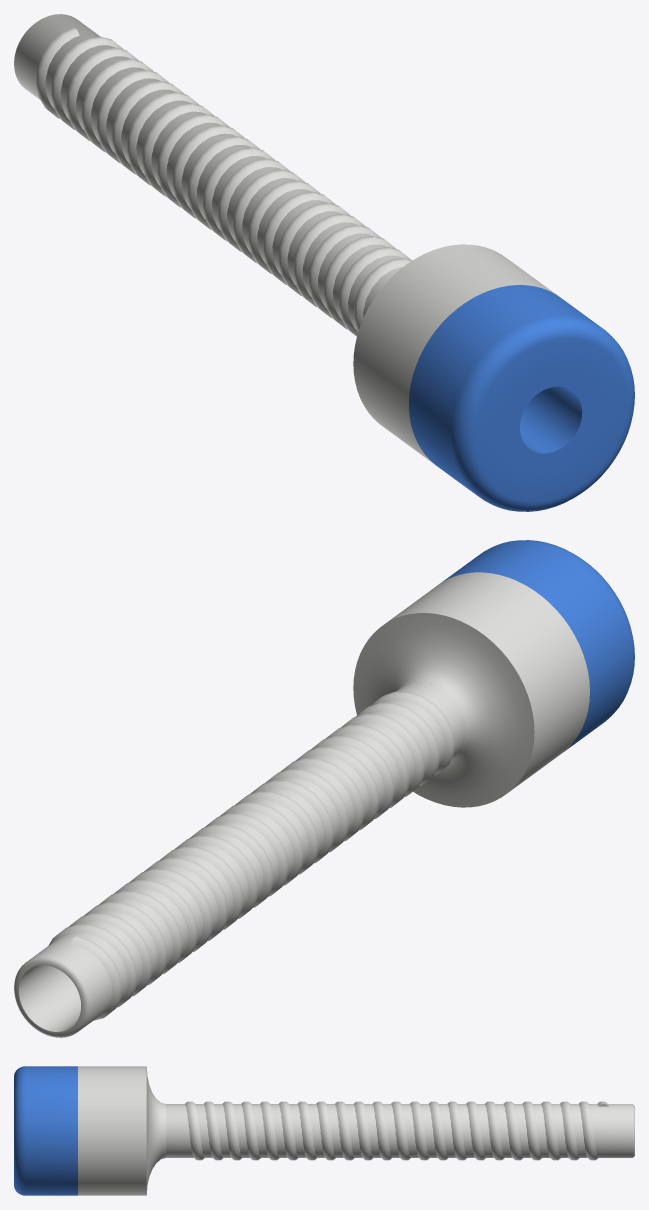
Rendered from trocar-sleeve-flexible.313eac70431d.glb.
The picture shows the model from 3 angles, top to bottom: view 1: azimuth 30°, elevation 25°; view 2: azimuth 150°, elevation 25°; view 3: azimuth 270°, elevation 25°; orthographic projection. The views are drawn at different scales.
Parts seen in each view (by area): view 1: sleeveHead, sleeveTube; view 2: sleeveTube, sleeveHead; view 3: sleeveTube, sleeveHead.
Boxes of the visible parts, x1,y1,x2,y2 form: sleeveHead: [353, 244, 634, 511]; sleeveTube: [14, 14, 412, 336]; sleeveTube: [14, 681, 465, 1037]; sleeveHead: [353, 540, 634, 807]; sleeveTube: [166, 1101, 634, 1160]; sleeveHead: [14, 1066, 166, 1195].
Size of the model in its own units: 16.6 by 16.6 by 79.5.
